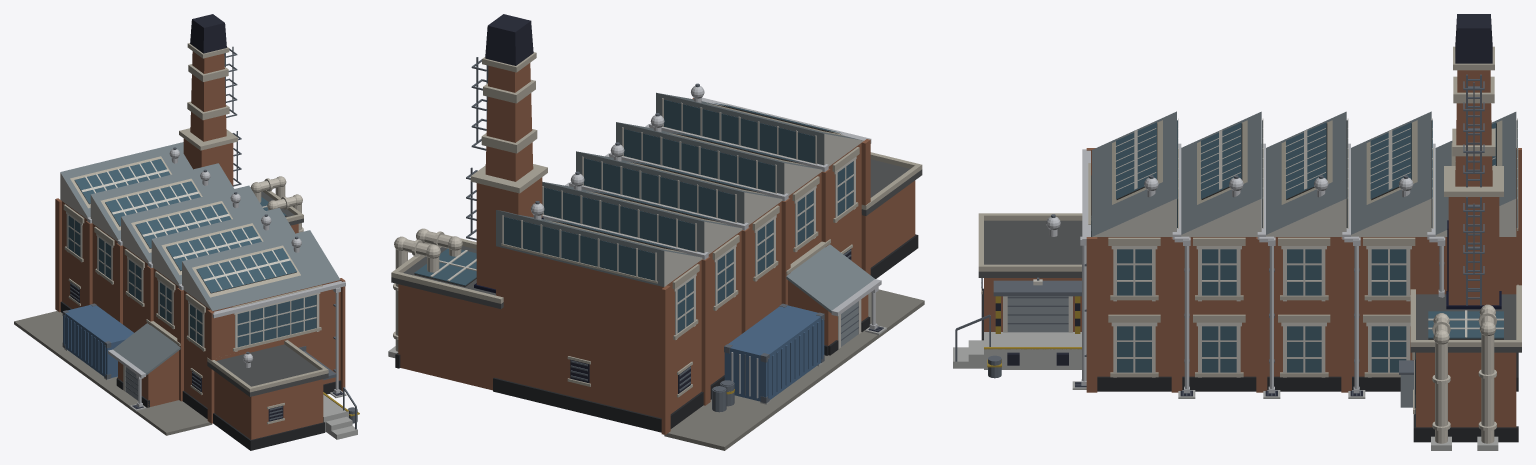
File: industrial_factory_lvl3.glb
The picture shows the model from 3 angles, left to right: view 1: azimuth 30°, elevation 25°; view 2: azimuth 150°, elevation 25°; view 3: azimuth 270°, elevation 25°; orthographic projection. The views are drawn at different scales.
Parts seen in each view (by area): view 1: industrial_factory, industrial_factory_Glass; view 2: industrial_factory, industrial_factory_Glass; view 3: industrial_factory, industrial_factory_Glass.
Part boxes in pixels (x1=…): industrial_factory: x1=14, y1=14, x2=359, y2=450; industrial_factory_Glass: x1=68, y1=159, x2=316, y2=347; industrial_factory: x1=388, y1=14, x2=924, y2=450; industrial_factory_Glass: x1=414, y1=99, x2=853, y2=332; industrial_factory: x1=953, y1=14, x2=1521, y2=450; industrial_factory_Glass: x1=1091, y1=120, x2=1517, y2=407.
Bounding box in the file's own units: 0.7457 × 0.732 × 1.
